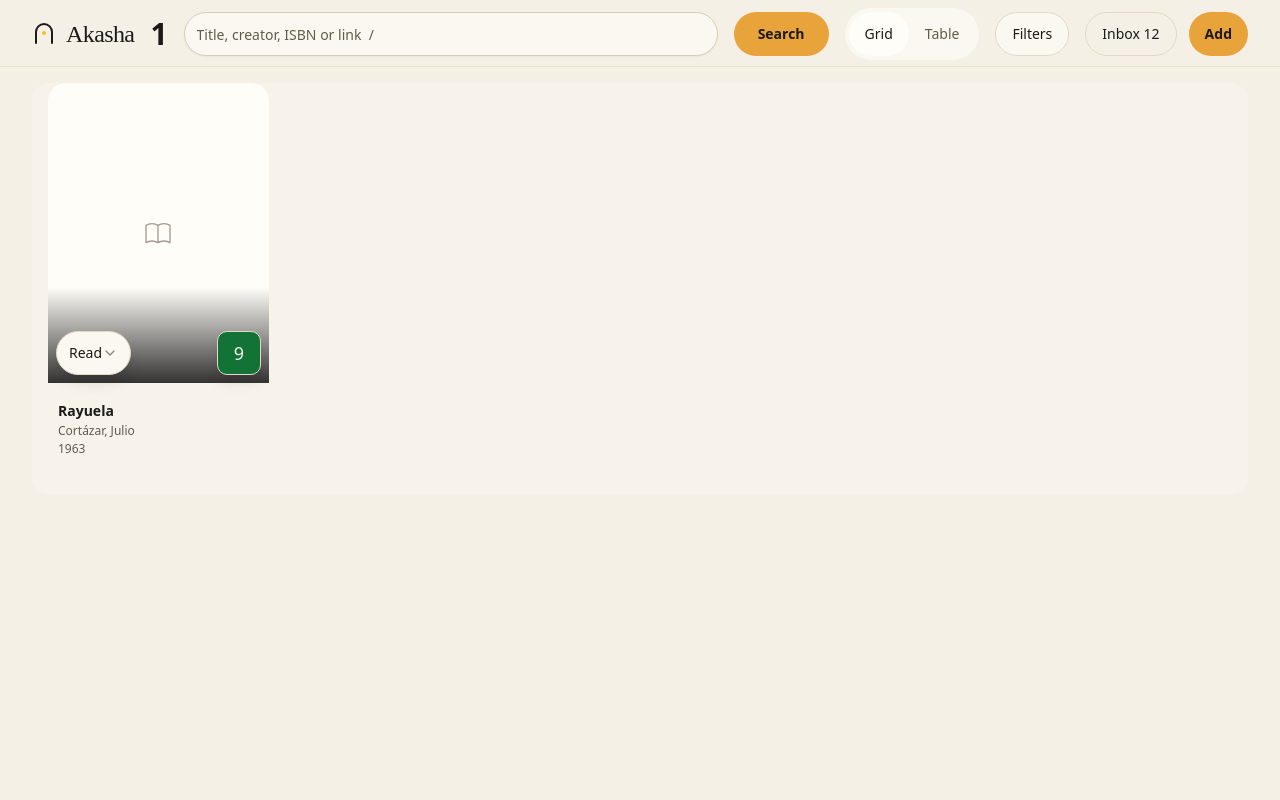
Test: the shelf filter lists every shelf, not only those on loaded pages
Check: the heading "Rayuela" is shown, box [58,401,114,420]
Click the button "Filters": x=1032, y=34 [995,12,1069,56]
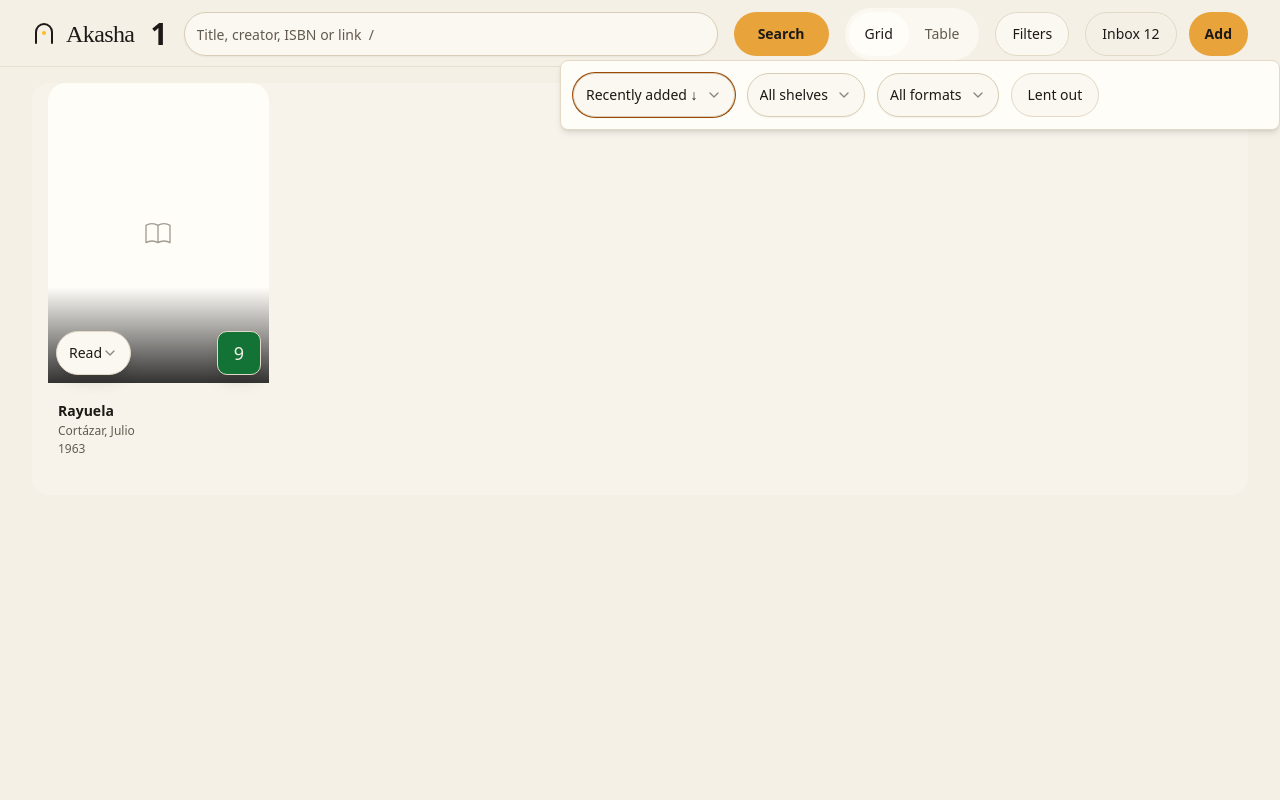
Check: the dropdown named "Sort library" is shown, box [573,73,734,117]
Click the dropdown named "Filter by shelf": x=806, y=95 [746,73,865,117]
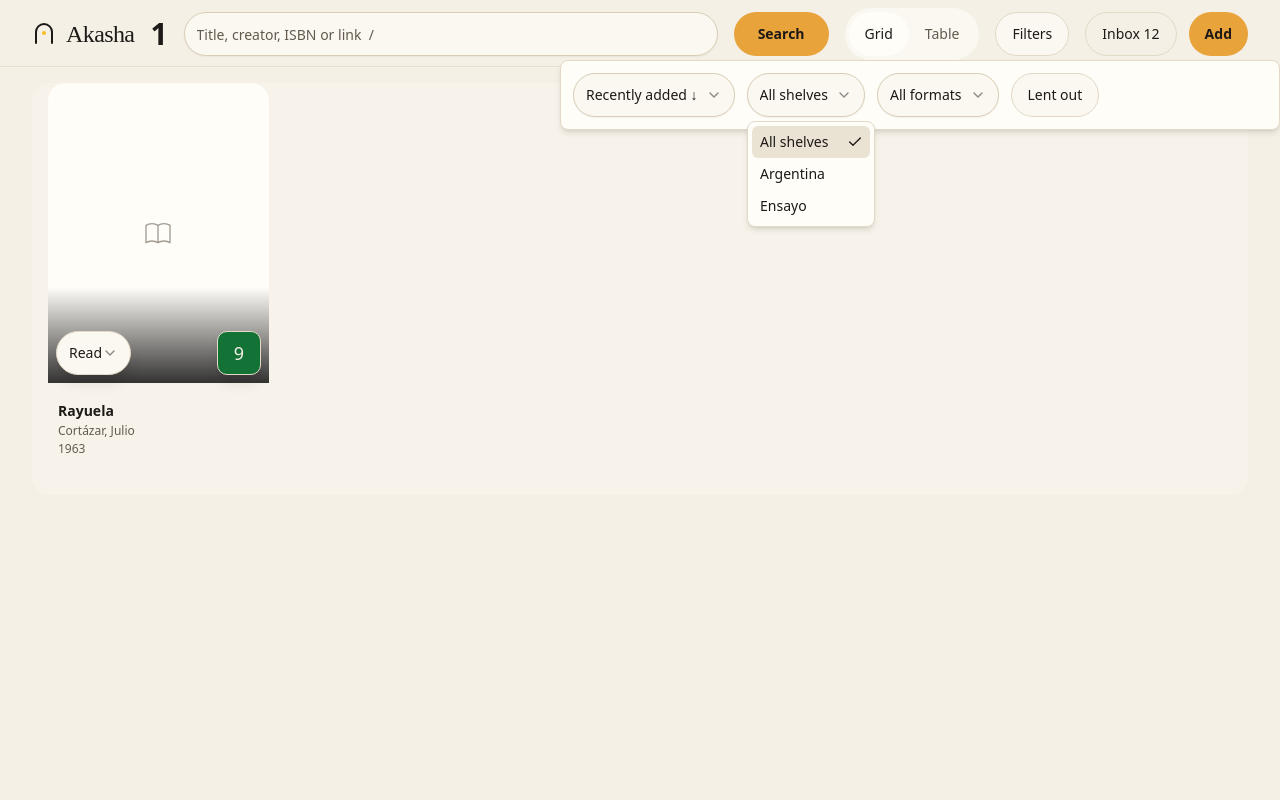
Check: the option "Argentina" is shown, box [760,164,825,183]
Check: the option "Ensayo" is shown, box [760,196,807,215]
Check: the options read "All shelves", "Argentina", "Ensayo", in this order, box [752,126,870,158]; [760,164,825,183]; [760,196,807,215]
